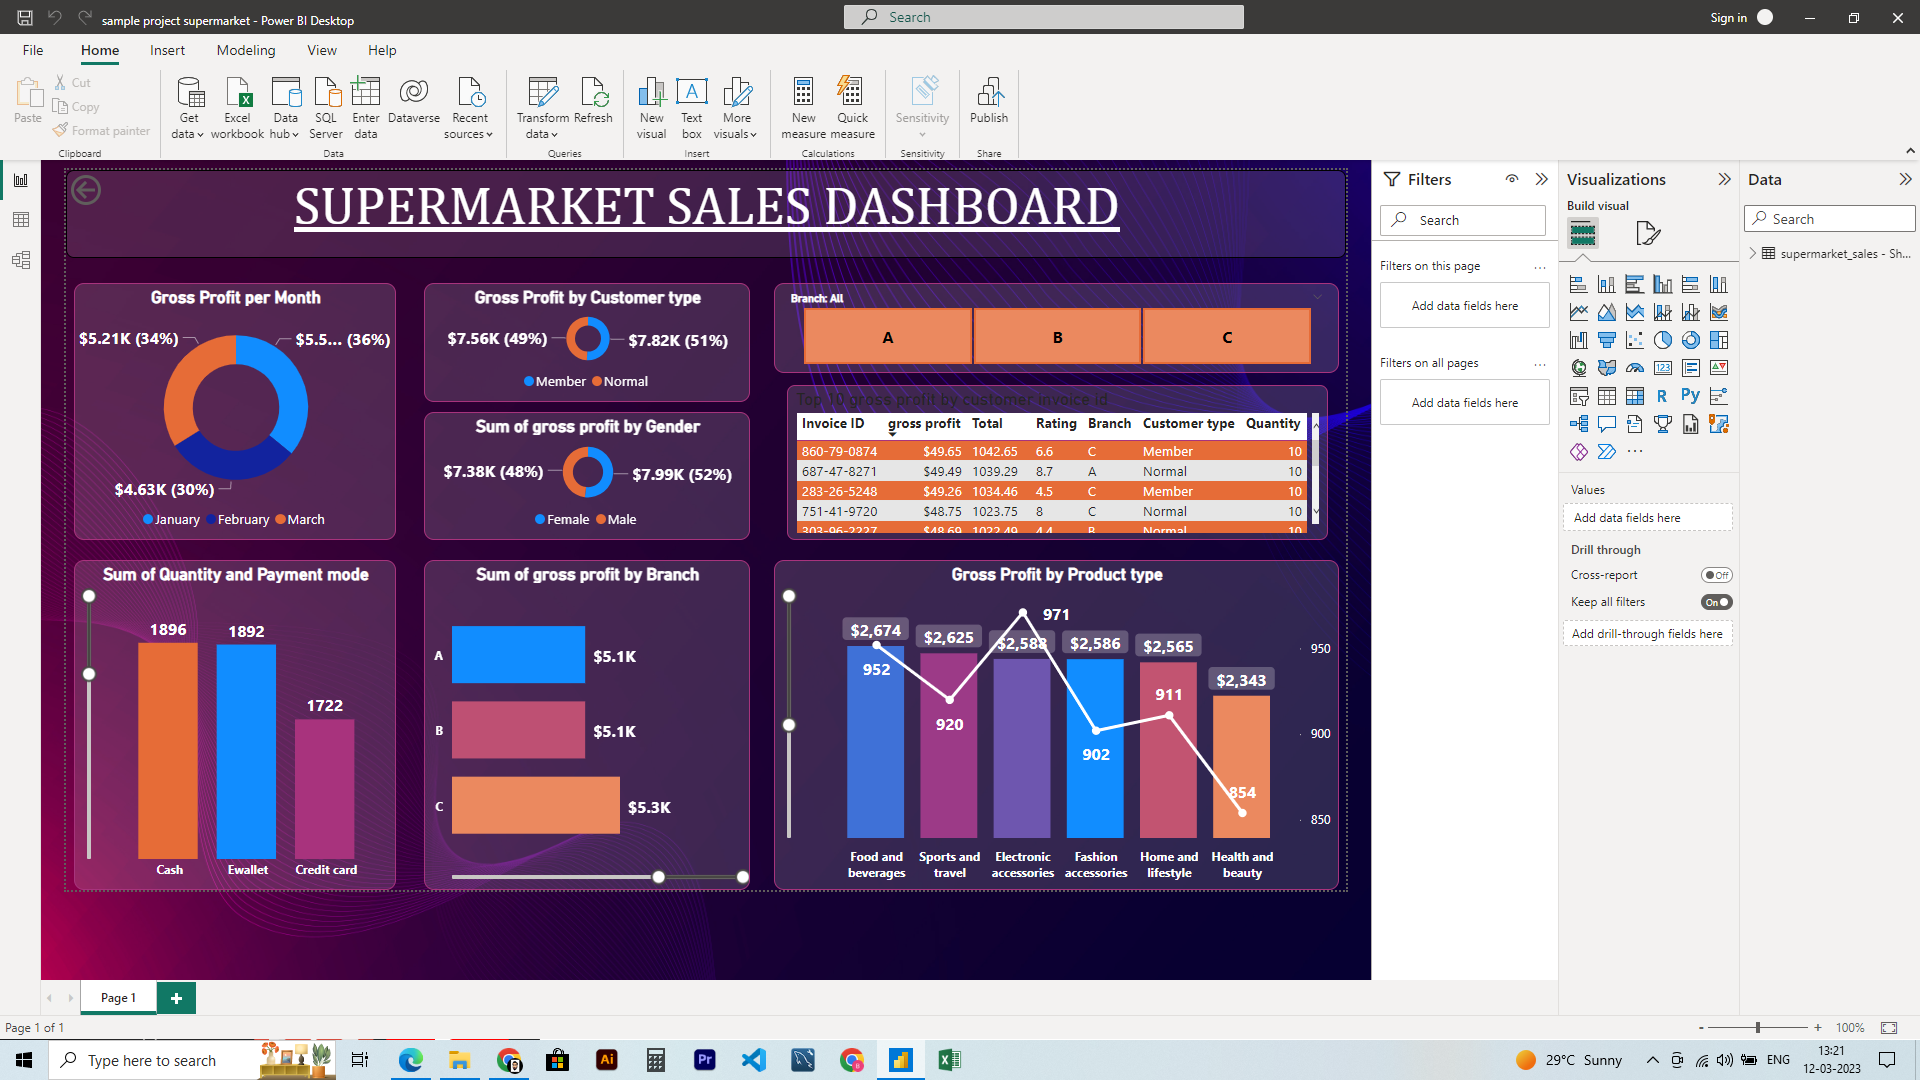

The page's visual inventory and layout, read from the dashboard file:
{"tool":"powerbi","page":{"name":"Page 1","canvas":[1280,720],"ordinal":0},"visuals":[{"type":"textbox","box":[0,0,1280.4,87.8],"z":0},{"type":"donutChart","title":" Gross Profit per Month","fields":{"Category":["supermarket_sales - Sheet1.Date.Variation.Date Hierarchy.Month"],"Y":["Sum(supermarket_sales - Sheet1.gross profit)"]},"box":[7.7,112.6,322.4,257],"z":1000},{"type":"lineStackedColumnComboChart","title":"Gross Profit by Product type","fields":{"Category":["supermarket_sales - Sheet1.Product line"],"Y":["Sum(supermarket_sales - Sheet1.gross profit)"],"Y2":["Sum(supermarket_sales - Sheet1.Quantity)"]},"box":[708.3,389.8,564.9,330.1],"z":2000},{"type":"columnChart","title":"Sum of Quantity and Payment mode","fields":{"Category":["supermarket_sales - Sheet1.Payment"],"Y":["Sum(supermarket_sales - Sheet1.Quantity)"]},"box":[7.7,389.8,322.4,330.1],"z":3000},{"type":"slicer","fields":{"Values":["supermarket_sales - Sheet1.Branch"]},"box":[708.3,112.6,564.9,90.5],"z":4000},{"type":"barChart","fields":{"Category":["supermarket_sales - Sheet1.Branch"],"Y":["Sum(supermarket_sales - Sheet1.gross profit)"]},"box":[358,389.8,326.3,330.1],"z":5000},{"type":"donutChart","fields":{"Category":["supermarket_sales - Sheet1.Gender"],"Y":["Sum(supermarket_sales - Sheet1.gross profit)"]},"box":[358,241.6,326.3,128],"z":6000},{"type":"donutChart","title":" Gross Profit by Customer type","fields":{"Y":["Sum(supermarket_sales - Sheet1.gross profit)"],"Category":["supermarket_sales - Sheet1.Customer type"]},"box":[358,112.6,326.3,119.3],"z":7000},{"type":"tableEx","title":"Top 10 gross profit by customer invoice id","fields":{"Values":["supermarket_sales - Sheet1.Invoice ID","supermarket_sales - Sheet1.gross profit","supermarket_sales - Sheet1.Total","supermarket_sales - Sheet1.Rating","supermarket_sales - Sheet1.Branch","supermarket_sales - Sheet1.Customer type","supermarket_sales - Sheet1.Quantity"]},"box":[720.8,214.6,540.9,154.9],"z":8000},{"type":"actionButton","box":[0,0,100,40],"z":9000}]}

Visuals, with their boxes on the page's 1280x720 design canvas (x1, y1, x2, y2). These are canvas units, not pixel positions in the 1920x1080 screenshot, which may show the page scaled, cropped or inside an application window:
textbox: pyautogui.locateOnScreen(0, 0, 1280, 88)
" Gross Profit per Month" donutChart: pyautogui.locateOnScreen(8, 113, 330, 370)
"Gross Profit by Product type" lineStackedColumnComboChart: pyautogui.locateOnScreen(708, 390, 1273, 720)
"Sum of Quantity and Payment mode" columnChart: pyautogui.locateOnScreen(8, 390, 330, 720)
slicer - supermarket_sales - Sheet1.Branch: pyautogui.locateOnScreen(708, 113, 1273, 203)
barChart - supermarket_sales - Sheet1.Branch x Sum(supermarket_sales - Sheet1.gross profit): pyautogui.locateOnScreen(358, 390, 684, 720)
donutChart - supermarket_sales - Sheet1.Gender x Sum(supermarket_sales - Sheet1.gross profit): pyautogui.locateOnScreen(358, 242, 684, 370)
" Gross Profit by Customer type" donutChart: pyautogui.locateOnScreen(358, 113, 684, 232)
"Top 10 gross profit by customer invoice id" tableEx: pyautogui.locateOnScreen(721, 215, 1262, 370)
actionButton: pyautogui.locateOnScreen(0, 0, 100, 40)
